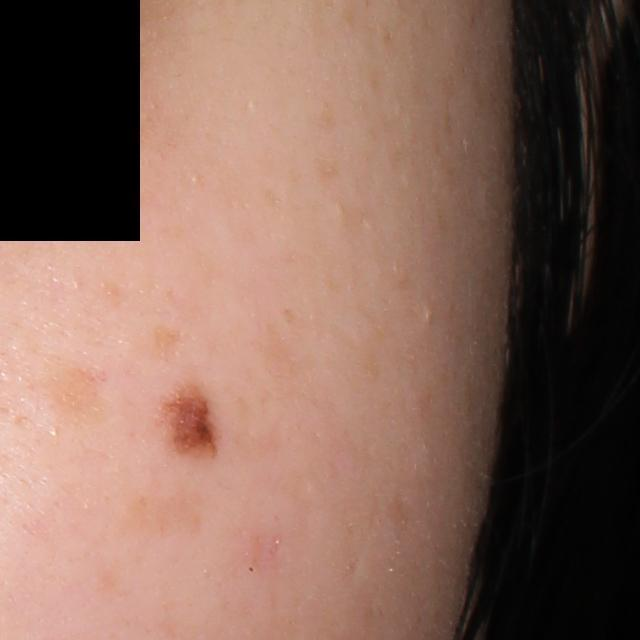comedo: (424, 305, 437, 324)
melasma: (34, 362, 122, 424), (149, 318, 192, 359), (311, 156, 345, 190), (308, 104, 336, 130)
nevus: (168, 388, 216, 464)
